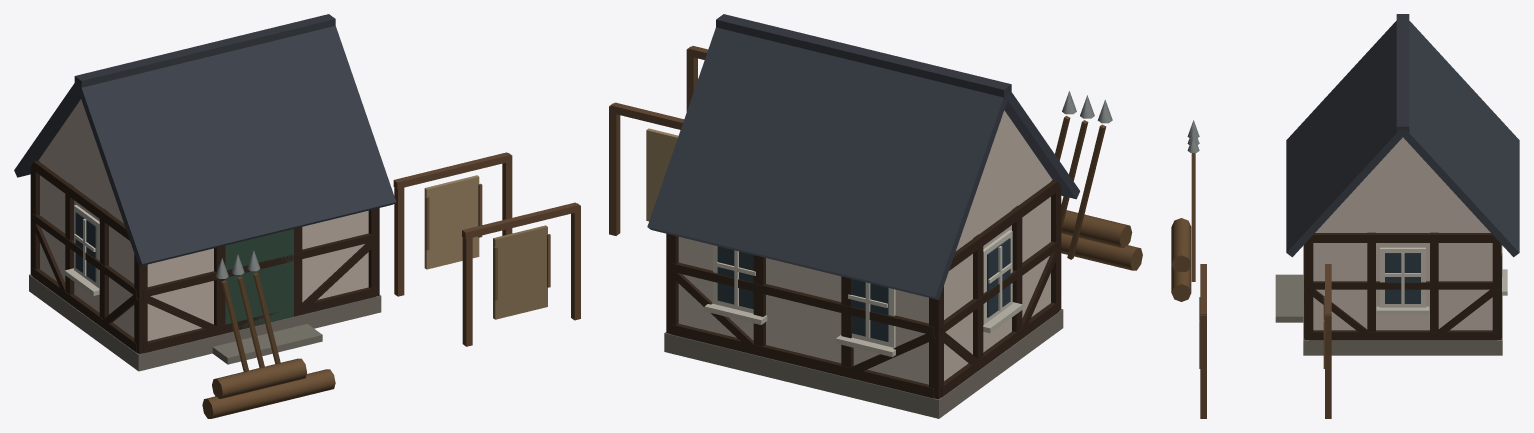
Rendered from procedural_hunter@3.glb.
The picture shows the model from 3 angles, left to right: view 1: azimuth 30°, elevation 25°; view 2: azimuth 150°, elevation 25°; view 3: azimuth 270°, elevation 25°; orthographic projection. The views are drawn at different scales.
Parts seen in each view (by area): view 1: part_0; view 2: part_0; view 3: part_0.
Boxes of the visible parts, left/top/right/bottom form: part_0: left=14, top=14, right=580, bottom=418; part_0: left=609, top=14, right=1142, bottom=418; part_0: left=1171, top=14, right=1519, bottom=418.
Bounding box in the file's own units: 7.42 × 4.61 × 6.28.
